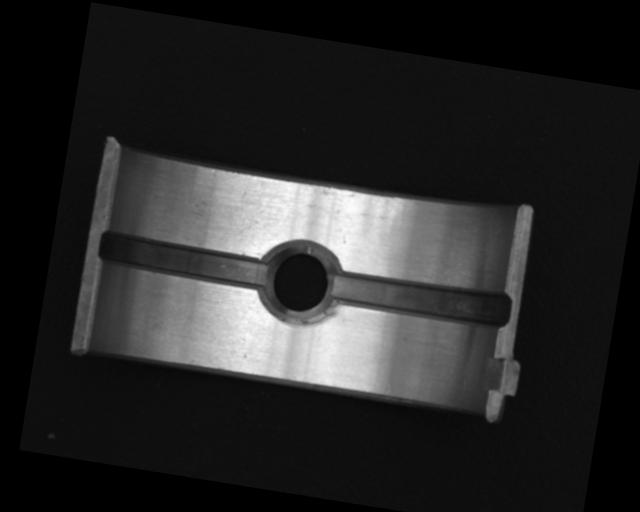gap: (329, 263, 512, 333), (96, 230, 272, 289)
hole: (252, 231, 347, 333)
